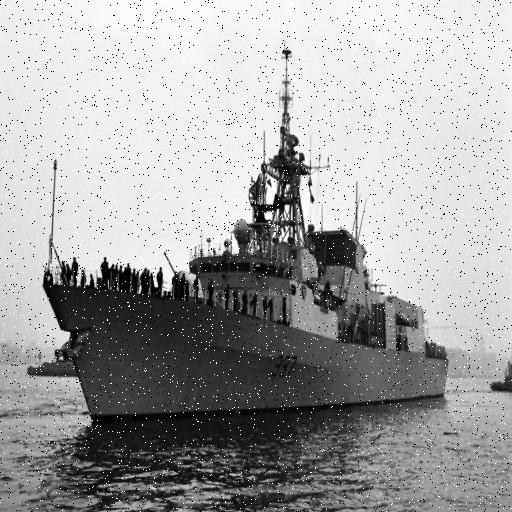Fragata: (44, 31, 451, 439)
